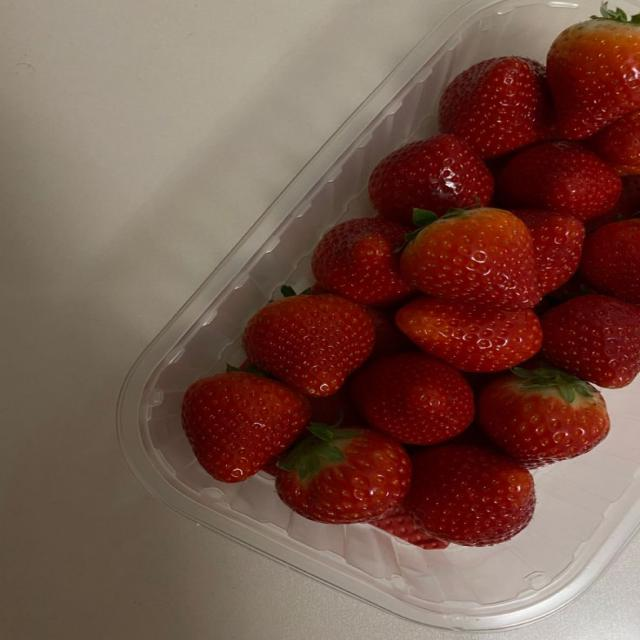strawberry: (400, 207, 540, 309), (182, 372, 310, 482), (276, 423, 411, 523), (477, 367, 609, 469), (405, 443, 535, 546), (243, 295, 374, 396), (547, 3, 639, 139), (351, 351, 474, 444), (439, 57, 551, 157), (369, 134, 493, 224), (396, 297, 541, 371), (496, 141, 621, 221), (541, 294, 639, 388), (312, 217, 413, 305), (513, 210, 585, 294), (580, 218, 639, 304), (585, 110, 639, 175), (371, 504, 448, 549), (586, 175, 639, 232), (309, 381, 363, 424), (367, 307, 413, 357)
